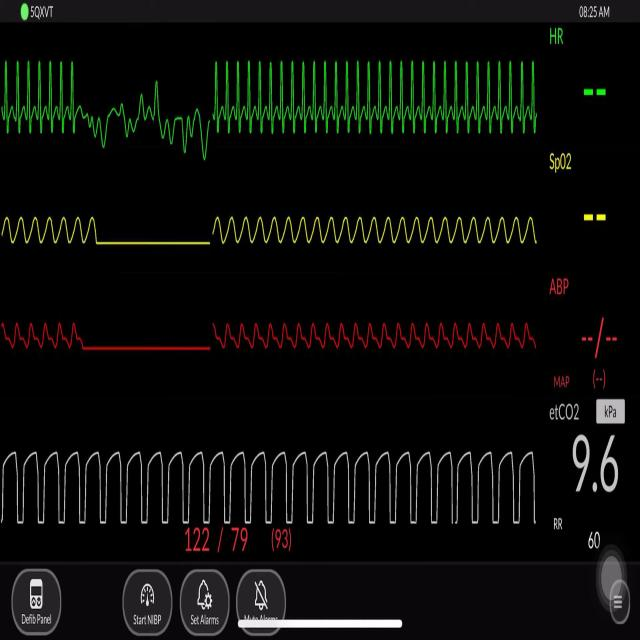danger: (213, 43, 540, 148), (8, 40, 85, 151)
